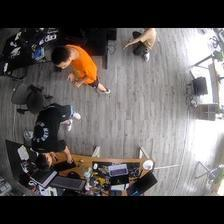fall: (122, 28, 162, 63)
normal: (31, 103, 80, 169), (50, 43, 112, 95)
